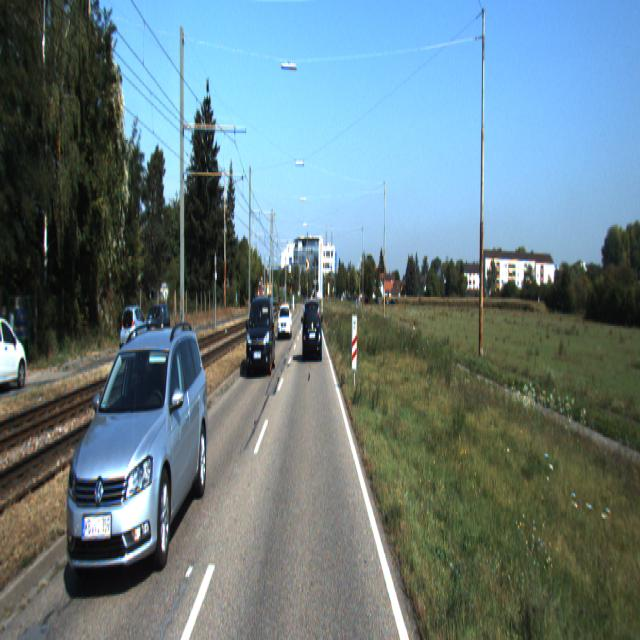Car: (67, 324, 212, 592), (246, 294, 277, 379), (0, 308, 28, 393), (120, 303, 150, 352), (143, 301, 172, 345), (303, 298, 322, 362), (278, 303, 292, 339)
DontCare: (337, 279, 396, 317)
